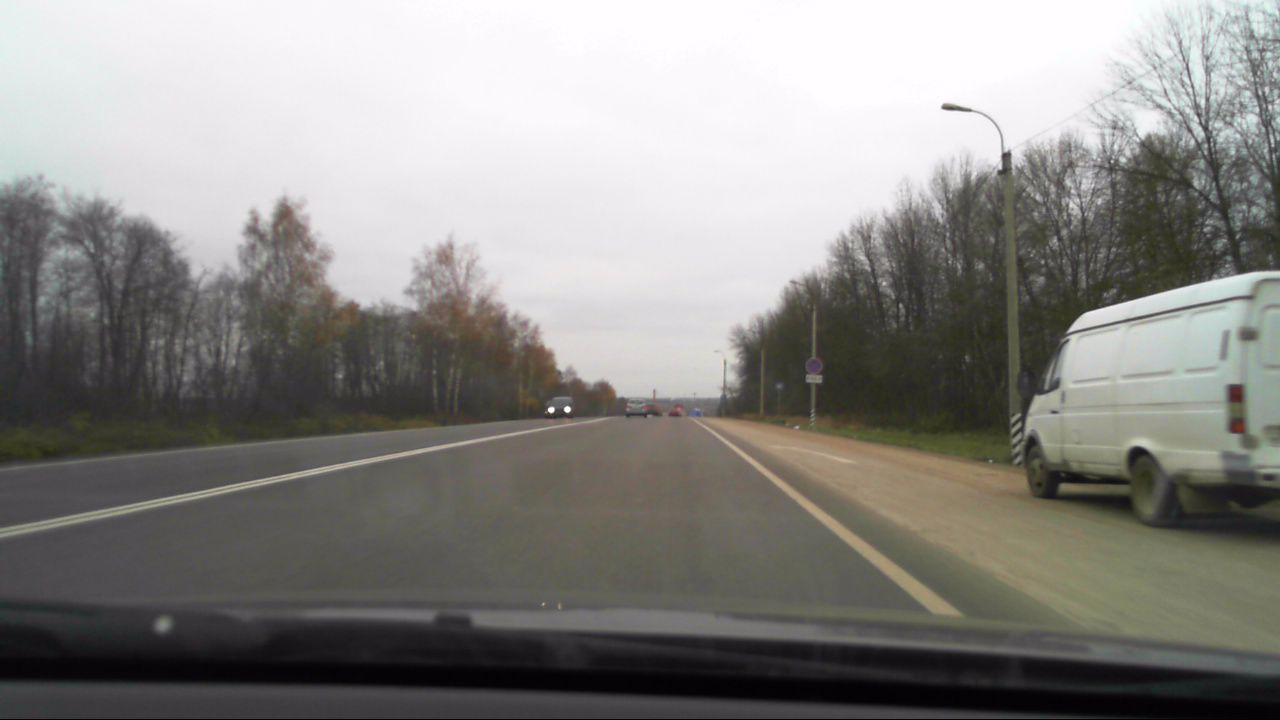No Parking: (803, 354, 822, 374)
